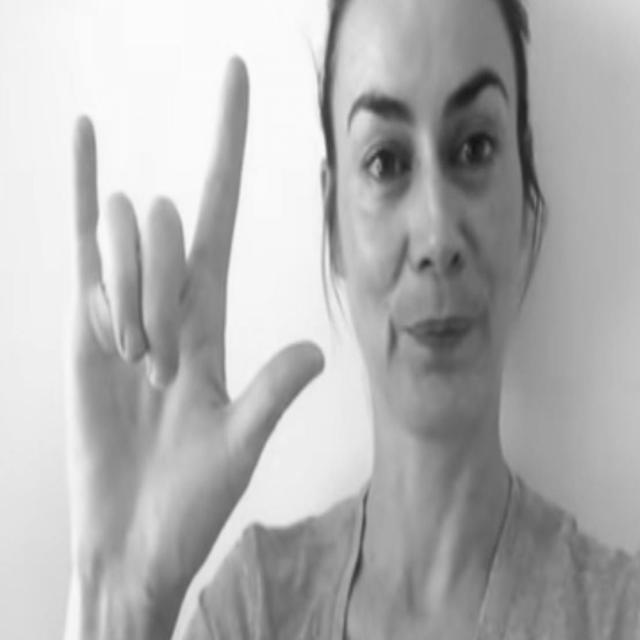i love you: (56, 45, 330, 640)
